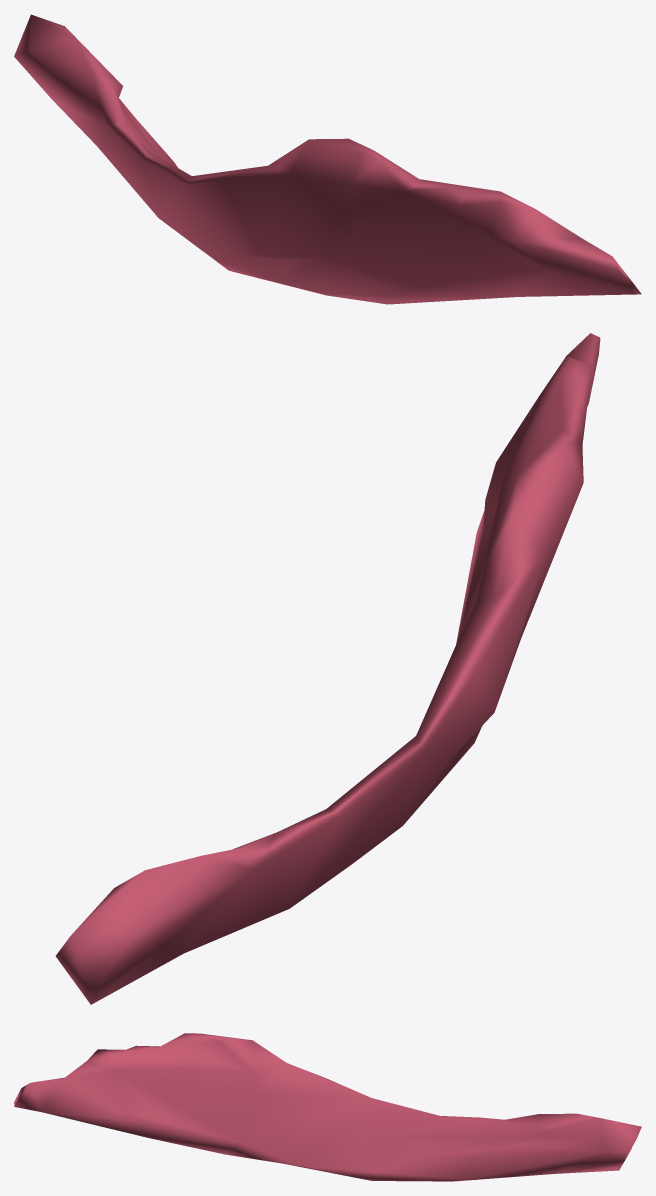
3 views of the same model, one above another, from view 1: azimuth 30°, elevation 25°; view 2: azimuth 150°, elevation 25°; view 3: azimuth 270°, elevation 25° (orthographic). The views are drawn at different scales.
Parts seen in each view (by area): view 1: 右侧提上唇鼻翼肌; view 2: 右侧提上唇鼻翼肌; view 3: 右侧提上唇鼻翼肌.
Part boxes in pixels (x1=…): 右侧提上唇鼻翼肌: x1=14, y1=14, x2=641, y2=304; 右侧提上唇鼻翼肌: x1=55, y1=333, x2=600, y2=1004; 右侧提上唇鼻翼肌: x1=14, y1=1033, x2=641, y2=1181.
Bounding box in the file's own units: 0.00803 × 0.0106 × 0.0429.
